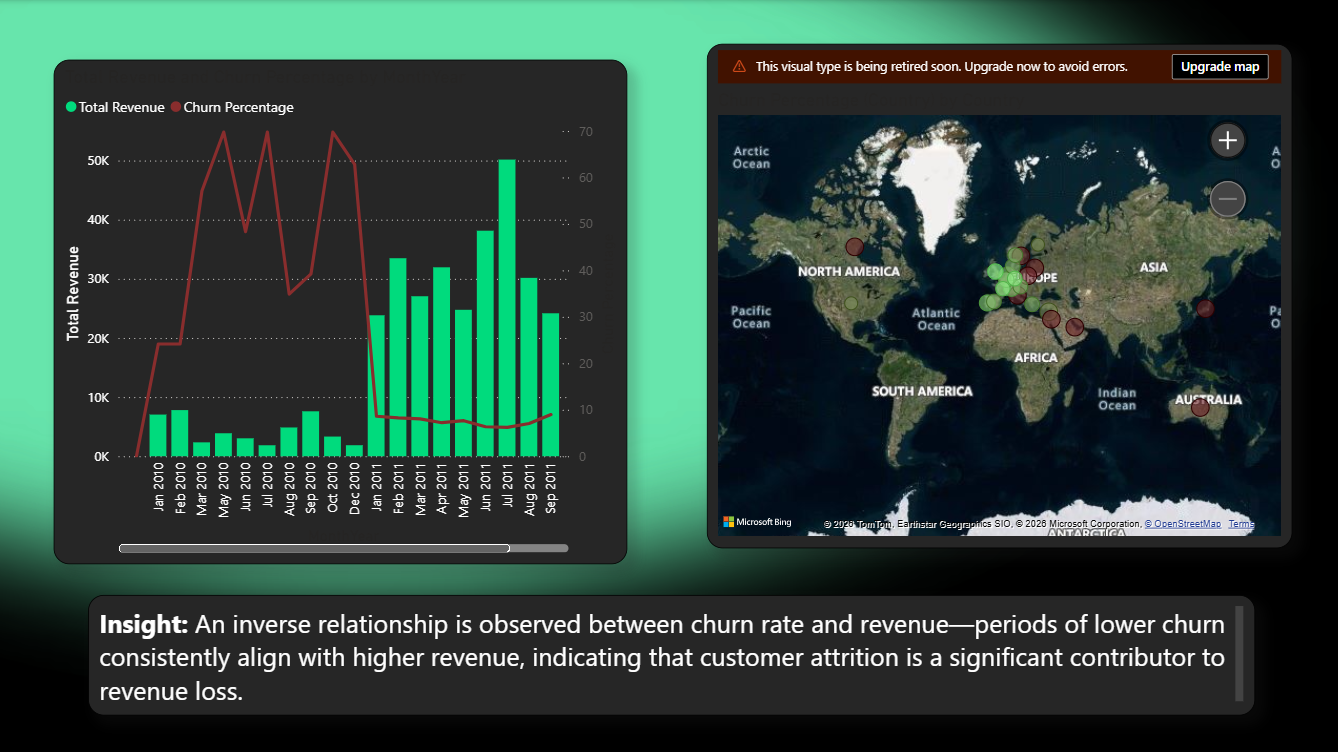

What the dashboard file says about the page in this screenshot:
{"tool":"powerbi","page":{"name":"Revenue and churn","canvas":[1280,720],"ordinal":3},"visuals":[{"type":"lineClusteredColumnComboChart","fields":{"Category":["Clean_Transactions3.MonthYear"],"Y":["Clean_Transactions3.Total Revenue"],"Y2":["clustered_customer_data.Churn Percentage"]},"box":[52.9,56.7,545.7,480.2],"z":0},{"type":"map","fields":{"Category":["Clean_Transactions3.Country"],"Size":["clustered_customer_data.Churn Percentage (Country)"]},"box":[674.3,41.6,557.1,480.2],"z":1000},{"type":"textbox","box":[85.7,565.9,1110.4,114.7],"z":1001}]}

Visuals, with their boxes in screenshot pixels (x1, y1, x2, y2), scaled from the page's 1280x720 canvas onto the 1338x752 screenshot:
lineClusteredColumnComboChart - Clean_Transactions3.MonthYear x Clean_Transactions3.Total Revenue: x1=55 y1=59 x2=626 y2=561
map - Clean_Transactions3.Country x clustered_customer_data.Churn Percentage (Country): x1=705 y1=43 x2=1287 y2=545
textbox: x1=90 y1=591 x2=1250 y2=711
